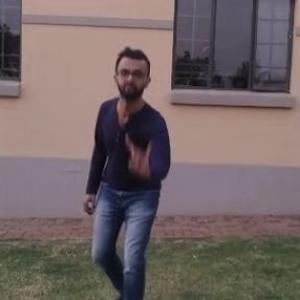takeoff-hand: (116, 132, 160, 183)
